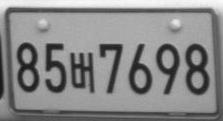5: (44, 41, 67, 93)
6: (127, 42, 153, 95)
7: (98, 42, 123, 94)
8: (184, 42, 210, 95), (15, 41, 40, 93)
9: (154, 42, 180, 95)
버: (69, 51, 96, 93)
